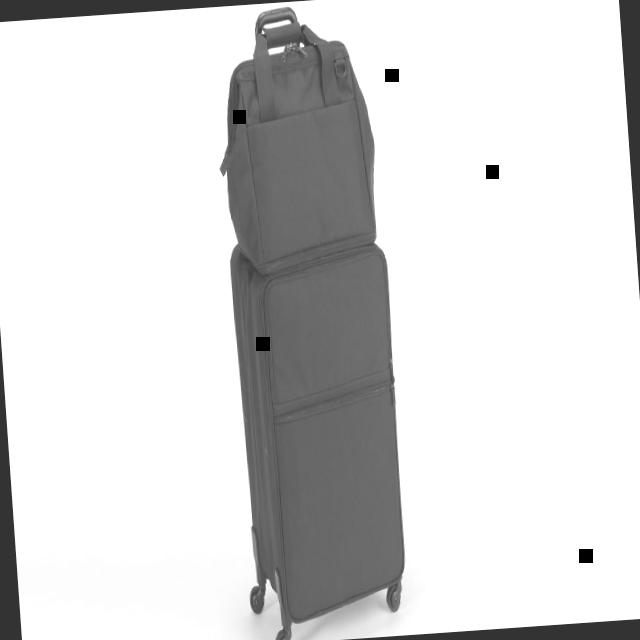luggage: (225, 234, 416, 630), (205, 0, 385, 278)
